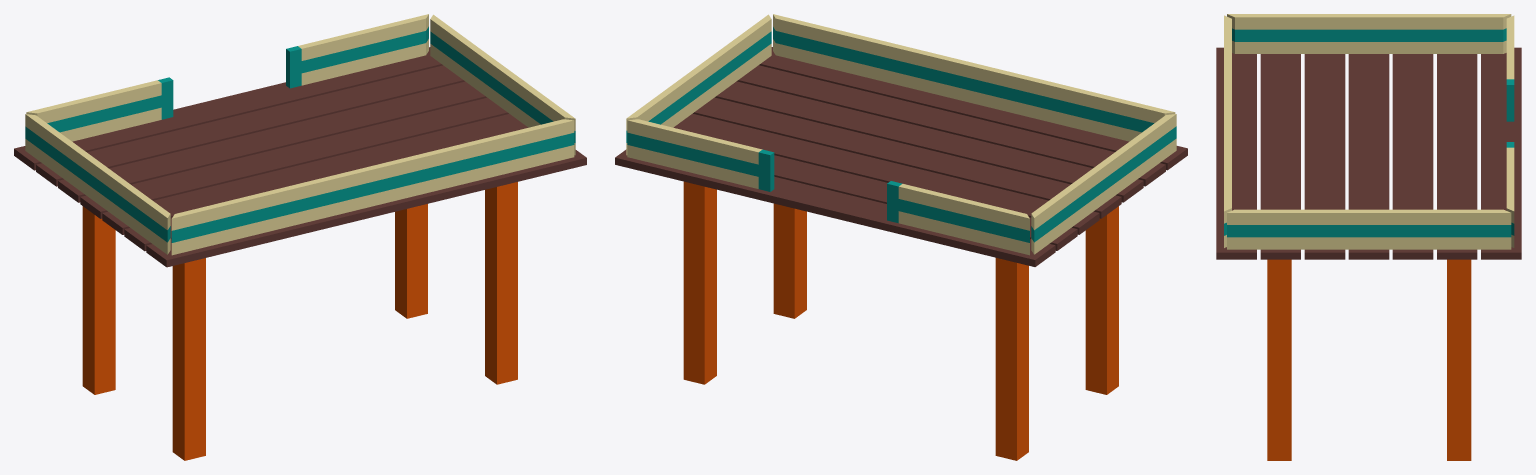
The model's file is GEO_platform_rectangle_small.fbx.
3 renders of one model, left to right at view 1: azimuth 30°, elevation 25°; view 2: azimuth 150°, elevation 25°; view 3: azimuth 270°, elevation 25°, orthographic.
Parts seen in each view (by area): view 1: GEO_hut_platform, GEO_hut_platform_fence, GEO_hut_pillars; view 2: GEO_hut_platform, GEO_hut_platform_fence, GEO_hut_pillars; view 3: GEO_hut_platform, GEO_hut_platform_fence, GEO_hut_pillars.
Boxes of the visible parts, box(x1,y1,x2,y2) form: GEO_hut_platform: box(14, 47, 586, 267); GEO_hut_platform_fence: box(25, 14, 575, 255); GEO_hut_pillars: box(82, 182, 517, 460); GEO_hut_platform: box(615, 47, 1187, 266); GEO_hut_platform_fence: box(626, 14, 1176, 255); GEO_hut_pillars: box(683, 181, 1118, 460); GEO_hut_platform: box(1216, 47, 1521, 259); GEO_hut_platform_fence: box(1224, 14, 1514, 249); GEO_hut_pillars: box(1267, 259, 1471, 460).
Size of the model in its own units: 770 by 467 by 484.
